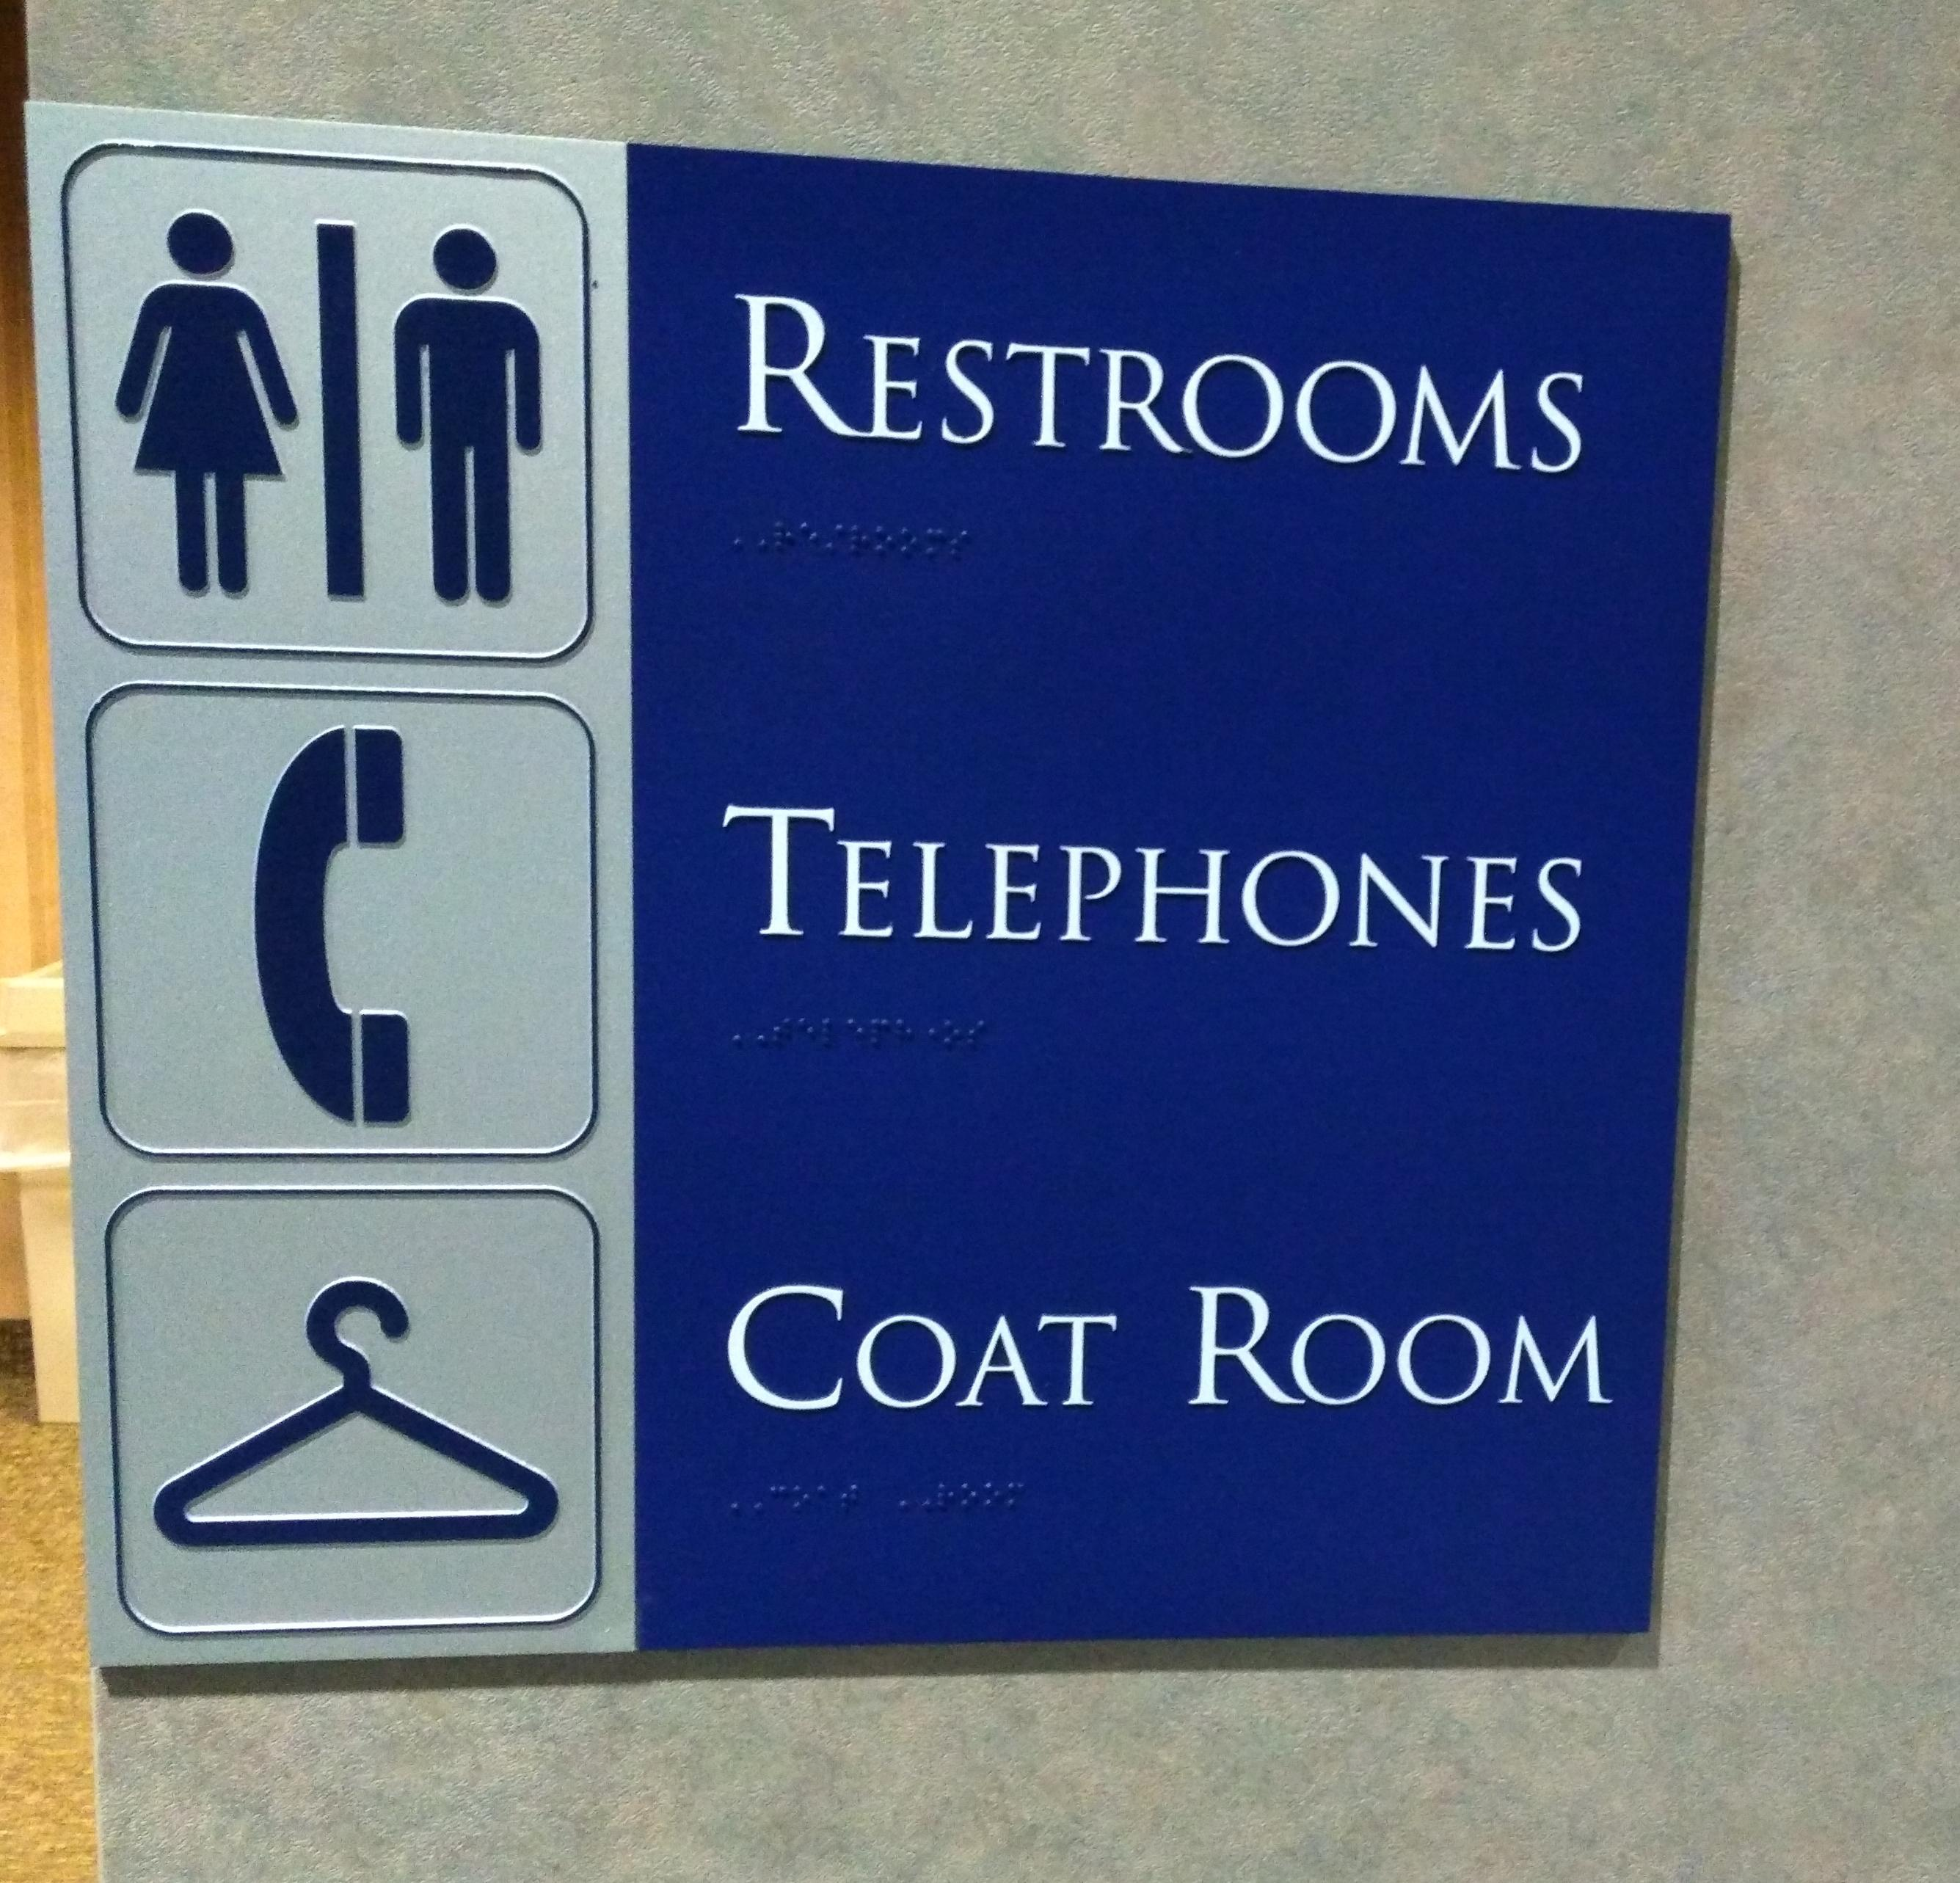sign: (21, 96, 1734, 1675)
